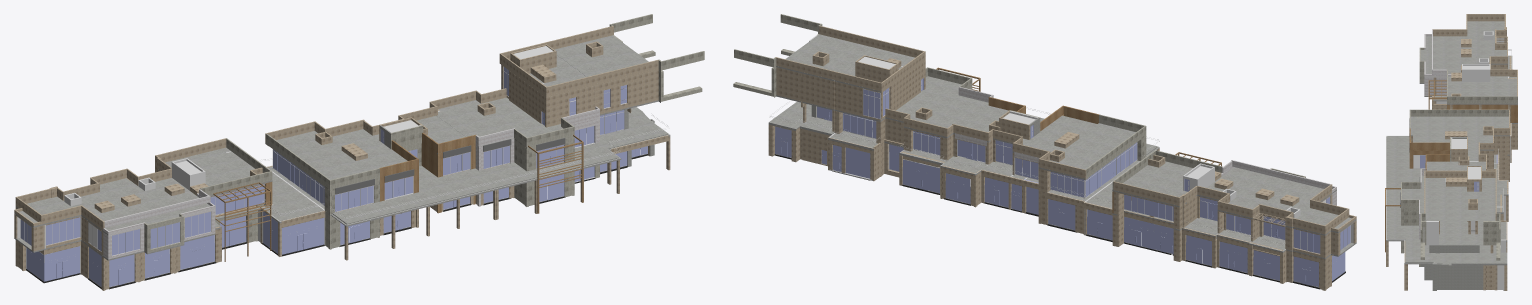
3 renders of one model, left to right at view 1: azimuth 30°, elevation 25°; view 2: azimuth 150°, elevation 25°; view 3: azimuth 270°, elevation 25°, orthographic. The views are drawn at different scales.
Parts seen in each view (by area): view 1: S.SLAB-2 S.SLAB-2 [363837].005, Floor FLOOR-1 [568405].001, Basic Wall WALL -20CM [1792169].001, S.SLAB-1 S.SLAB-1 [1801362].002, S.SLAB-1 S.SLAB-1 [1801362].006, D.BEAMS-01 D.BEAMS-01 [353919].001, Generic Models 3 Generic Models 3 [1543625].001, Canopy1 Canopy-1 [914335].002, Basic Wall WALL -20CM [1790187].001, Basic Wall WALL -20CM [1815080].001, Generic Models 4 Generic Models 4 [732276].001, Generic Models 2 Generic Models 2 [466575].001 (+16 smaller); view 2: S.SLAB-2 S.SLAB-2 [363837].005, D.BEAMS-01 D.BEAMS-01 [353919].001, S.SLAB-1 S.SLAB-1 [1801362].002, S.SLAB-1 S.SLAB-1 [1801362].006, Basic Wall WALL -20CM [1822316].001, S.SLAB-1 S.SLAB-1 [1801362].005, Floor FLOOR-1 [568405].001, Basic Wall WALL -20CM [1790187].001, Basic Wall WALL -20CM [1815080].001, S.SLAB-1 S.SLAB-1 [1801362].004, Generic Models 3 Generic Models 3 [1543625].001, Basic Wall WALL -20CM [1822181].001 (+17 smaller); view 3: S.SLAB-2 S.SLAB-2 [363837].005, Floor FLOOR-1 [568405].001, S.SLAB-1 S.SLAB-1 [1801362].002, Basic Wall WALL -20CM [1077299].001, S.SLAB-1 S.SLAB-1 [1801362].003, Basic Wall WALL -20CM [433616].001, Generic Models 3 Generic Models 3 [1543625].001, Basic Wall WALL -20CM [412704].001, Basic Wall WALL -20CM [1816034].001, Basic Wall WALL -40CM [1806475].001, S.SLAB1 S.SLAB-2 [1544700].001, S.SLAB-1 S.SLAB-1 [1801362].004 (+41 smaller).
Part boxes in pixels (x1=…): S.SLAB-2 S.SLAB-2 [363837].005: x1=14, y1=88, x2=660, y2=235; Floor FLOOR-1 [568405].001: x1=332, y1=107, x2=668, y2=224; Basic Wall WALL -20CM [1792169].001: x1=559, y1=70, x2=658, y2=124; S.SLAB-1 S.SLAB-1 [1801362].002: x1=554, y1=35, x2=660, y2=85; S.SLAB-1 S.SLAB-1 [1801362].006: x1=261, y1=166, x2=500, y2=226; D.BEAMS-01 D.BEAMS-01 [353919].001: x1=16, y1=135, x2=668, y2=278; Generic Models 3 Generic Models 3 [1543625].001: x1=94, y1=64, x2=556, y2=212; Canopy1 Canopy-1 [914335].002: x1=213, y1=182, x2=271, y2=261; Basic Wall WALL -20CM [1790187].001: x1=509, y1=70, x2=547, y2=127; Basic Wall WALL -20CM [1815080].001: x1=545, y1=60, x2=658, y2=96; Generic Models 4 Generic Models 4 [732276].001: x1=528, y1=134, x2=583, y2=213; Generic Models 2 Generic Models 2 [466575].001: x1=26, y1=154, x2=648, y2=289; S.SLAB-2 S.SLAB-2 [363837].005: x1=774, y1=76, x2=1356, y2=235; D.BEAMS-01 D.BEAMS-01 [353919].001: x1=773, y1=125, x2=1354, y2=262; S.SLAB-1 S.SLAB-1 [1801362].002: x1=774, y1=34, x2=877, y2=81; S.SLAB-1 S.SLAB-1 [1801362].006: x1=940, y1=147, x2=1159, y2=208; Basic Wall WALL -20CM [1822316].001: x1=776, y1=67, x2=832, y2=108; S.SLAB-1 S.SLAB-1 [1801362].005: x1=1112, y1=200, x2=1356, y2=259; Floor FLOOR-1 [568405].001: x1=768, y1=101, x2=1157, y2=154; Basic Wall WALL -20CM [1790187].001: x1=889, y1=61, x2=925, y2=110; Basic Wall WALL -20CM [1815080].001: x1=819, y1=25, x2=925, y2=59; S.SLAB-1 S.SLAB-1 [1801362].004: x1=828, y1=129, x2=947, y2=164; Generic Models 3 Generic Models 3 [1543625].001: x1=887, y1=58, x2=1299, y2=206; Basic Wall WALL -20CM [1822181].001: x1=836, y1=82, x2=881, y2=120; S.SLAB-2 S.SLAB-2 [363837].005: x1=1401, y1=21, x2=1517, y2=245; Floor FLOOR-1 [568405].001: x1=1387, y1=136, x2=1507, y2=264; S.SLAB-1 S.SLAB-1 [1801362].002: x1=1422, y1=196, x2=1498, y2=220; Basic Wall WALL -20CM [1077299].001: x1=1437, y1=262, x2=1483, y2=289; S.SLAB-1 S.SLAB-1 [1801362].003: x1=1425, y1=178, x2=1495, y2=196; Basic Wall WALL -20CM [433616].001: x1=1410, y1=109, x2=1508, y2=116; Generic Models 3 Generic Models 3 [1543625].001: x1=1445, y1=39, x2=1471, y2=186; Basic Wall WALL -20CM [412704].001: x1=1448, y1=96, x2=1517, y2=103; Basic Wall WALL -20CM [1816034].001: x1=1425, y1=170, x2=1495, y2=177; Basic Wall WALL -40CM [1806475].001: x1=1483, y1=221, x2=1500, y2=245; S.SLAB1 S.SLAB-2 [1544700].001: x1=1452, y1=66, x2=1489, y2=179; S.SLAB-1 S.SLAB-1 [1801362].004: x1=1386, y1=194, x2=1507, y2=241.
Size of the model in its own units: 101 by 16.42 by 23.36.
Materials: 11 (7 with a texture image).
